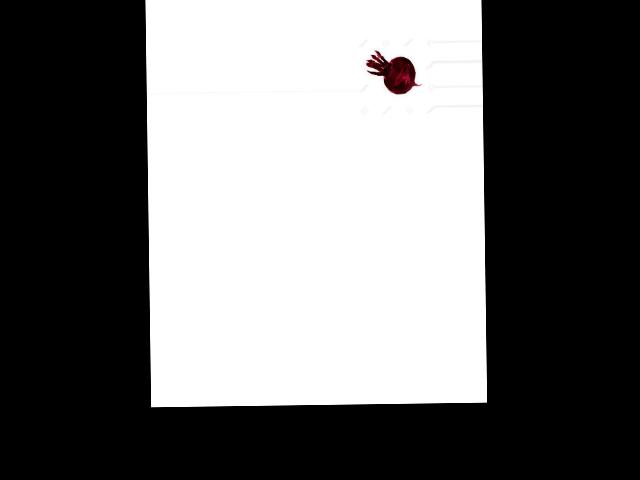beet: (366, 50, 422, 95)
